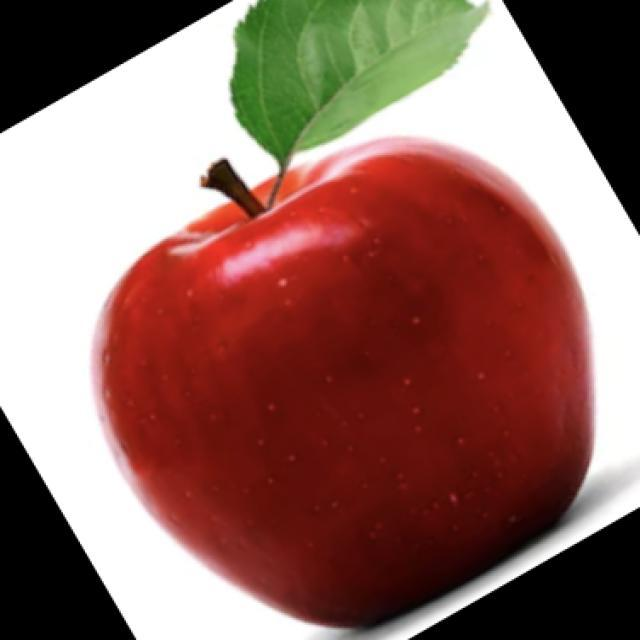Apple: (89, 135, 596, 629)
